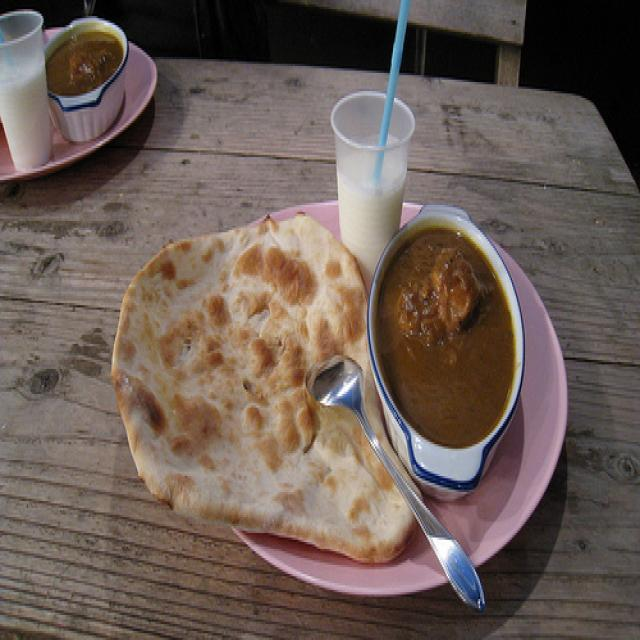Beef Curry: (388, 219, 511, 448)
